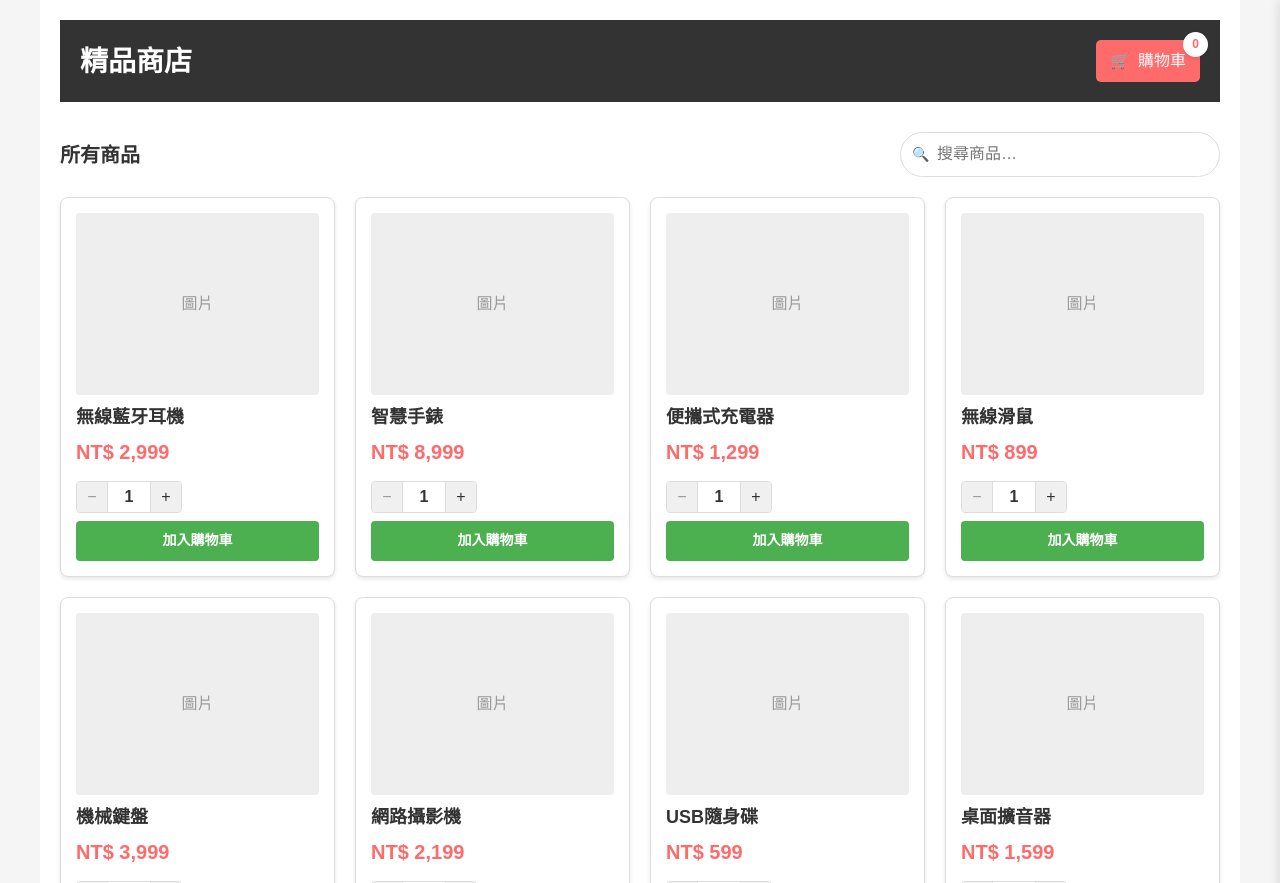
it: Shop › shows an empty state when the search has no matches
Expected: the heading "智慧手錶" is shown, [371, 407, 443, 427]
In the search field labelled "搜尋商品": x=1060, y=155 [900, 132, 1220, 177], type "冰箱"
Wait 300 ms
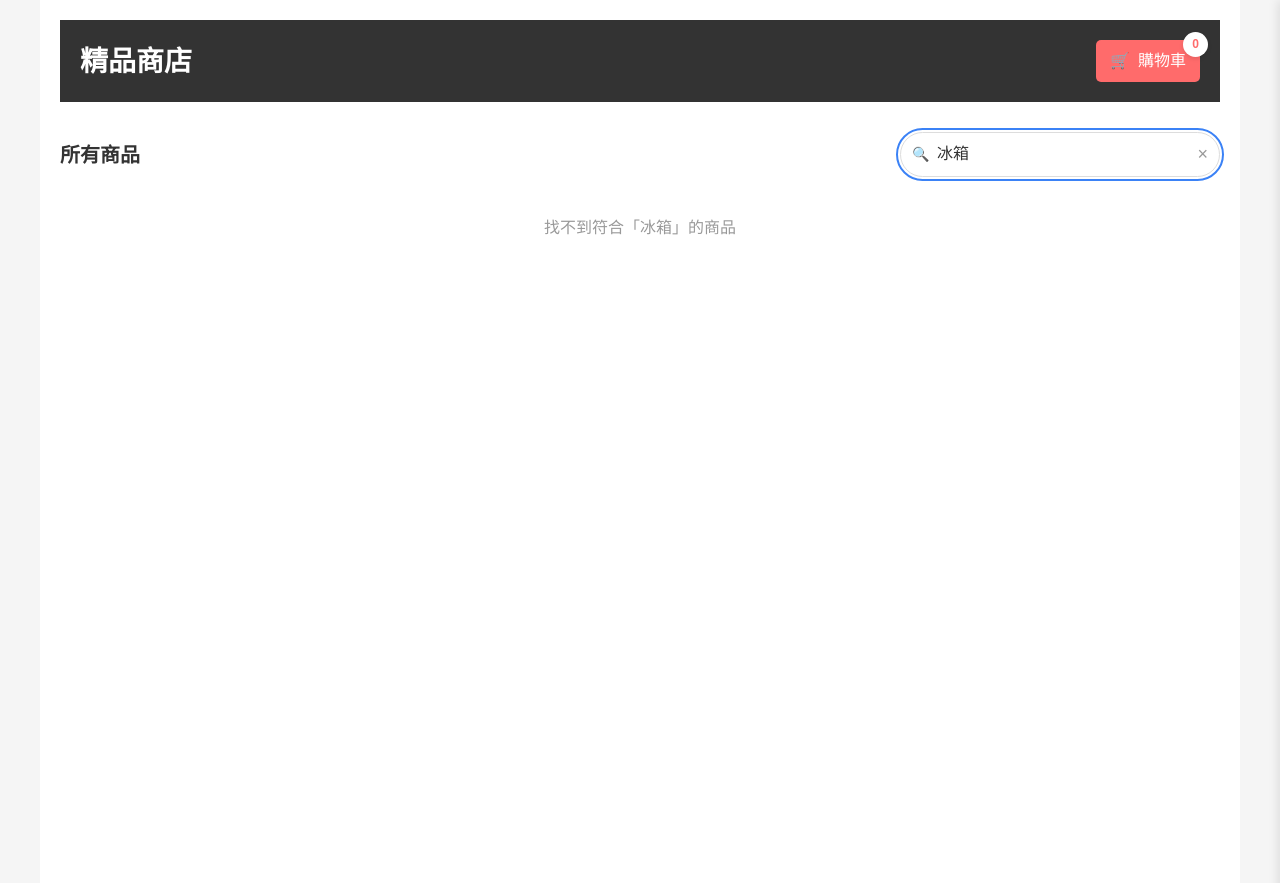
Now the text "找不到符合「冰箱」的商品" is shown, box [544, 219, 736, 236]
